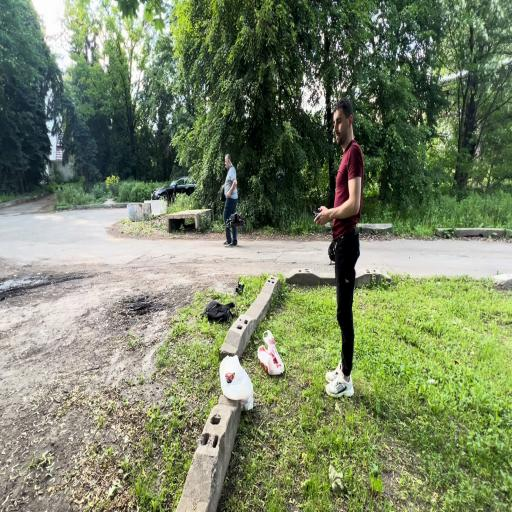drone: (226, 212, 247, 226)
